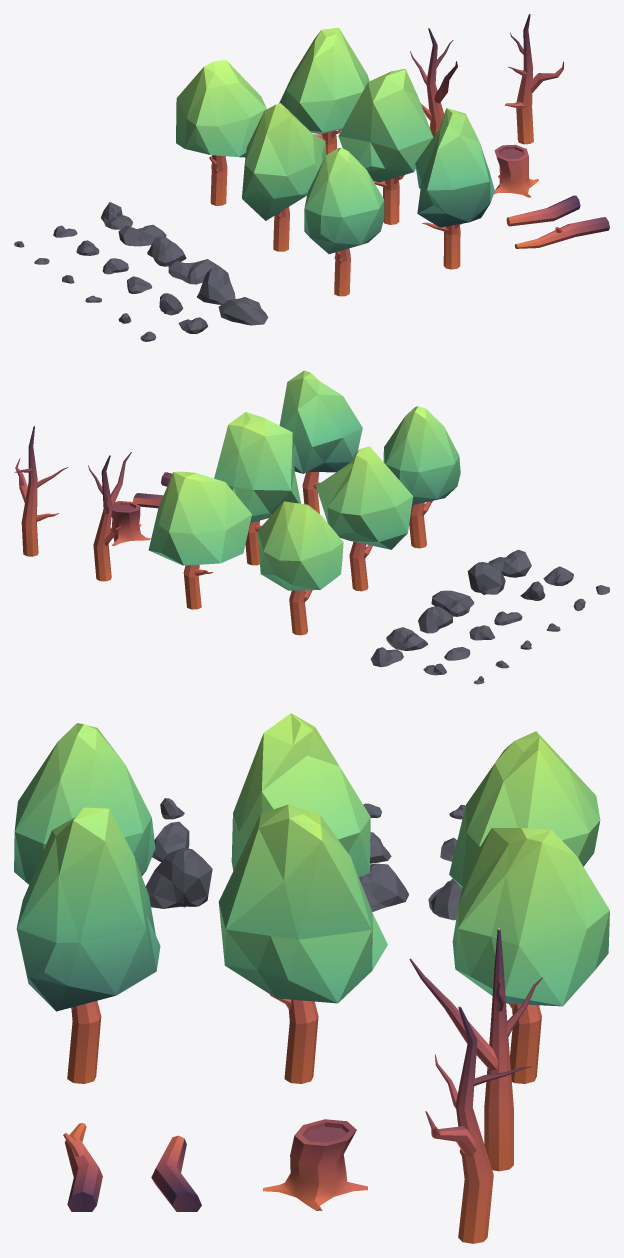
The model's file is Rocks and trees.fbx.
3 renders of one model, top to bottom at view 1: azimuth 30°, elevation 25°; view 2: azimuth 150°, elevation 25°; view 3: azimuth 270°, elevation 25°, orthographic. The views are drawn at different scales.
Parts seen in each view (by area): view 1: Summer_tree_4, Summer_tree_5, Summer_tree_2, Summer_tree_3, Summer_tree_6, Summer_tree, Winter_tree_2, Broken_tree_2, Winter_tree, Broken_tree_3, Rock_14, Rock_13 (+5 smaller); view 2: Summer_tree, Summer_tree_3, Summer_tree_4, Summer_tree_2, Summer_tree_5, Summer_tree_6, Winter_tree_2, Winter_tree, Broken_tree_2, Rock_14, Rock_15, Rock_13 (+3 smaller); view 3: Summer_tree_4, Summer_tree, Summer_tree_5, Summer_tree_6, Summer_tree_2, Summer_tree_3, Winter_tree, Winter_tree_2, Broken_tree_2, Rock_14, Broken_tree_3, Broken_tree (+3 smaller).
Part boxes in pixels (x1=…): Summer_tree_4: x1=338, y1=69, x2=433, y2=224; Summer_tree_5: x1=415, y1=108, x2=494, y2=269; Summer_tree_2: x1=176, y1=60, x2=266, y2=205; Summer_tree_3: x1=242, y1=103, x2=326, y2=251; Summer_tree_6: x1=304, y1=147, x2=384, y2=296; Summer_tree: x1=279, y1=27, x2=369, y2=154; Winter_tree_2: x1=504, y1=14, x2=563, y2=144; Broken_tree_2: x1=494, y1=144, x2=538, y2=197; Winter_tree: x1=410, y1=28, x2=457, y2=136; Broken_tree_3: x1=514, y1=217, x2=609, y2=248; Rock_14: x1=197, y1=265, x2=235, y2=304; Rock_13: x1=218, y1=297, x2=268, y2=325; Summer_tree: x1=148, y1=471, x2=251, y2=609; Summer_tree_3: x1=316, y1=446, x2=413, y2=591; Summer_tree_4: x1=214, y1=412, x2=300, y2=565; Summer_tree_2: x1=257, y1=501, x2=343, y2=635; Summer_tree_5: x1=279, y1=370, x2=362, y2=513; Summer_tree_6: x1=383, y1=406, x2=460, y2=548; Winter_tree_2: x1=14, y1=426, x2=68, y2=556; Winter_tree: x1=88, y1=452, x2=131, y2=581; Broken_tree_2: x1=110, y1=501, x2=150, y2=545; Rock_14: x1=467, y1=562, x2=505, y2=594; Rock_15: x1=431, y1=590, x2=474, y2=616; Rock_13: x1=488, y1=549, x2=531, y2=577; Summer_tree_4: x1=218, y1=804, x2=387, y2=1083; Summer_tree: x1=452, y1=828, x2=609, y2=1083; Summer_tree_5: x1=16, y1=807, x2=160, y2=1083; Summer_tree_6: x1=14, y1=723, x2=155, y2=884; Summer_tree_2: x1=449, y1=731, x2=600, y2=887; Summer_tree_3: x1=231, y1=713, x2=370, y2=876; Winter_tree: x1=409, y1=928, x2=542, y2=1171; Winter_tree_2: x1=425, y1=1006, x2=531, y2=1243; Broken_tree_2: x1=263, y1=1119, x2=367, y2=1210; Rock_14: x1=145, y1=848, x2=212, y2=908; Broken_tree_3: x1=63, y1=1123, x2=102, y2=1211; Broken_tree: x1=151, y1=1135, x2=201, y2=1211.
Size of the model in its own units: 1025 by 289 by 568.
Materials: 1 (1 with a texture image).
